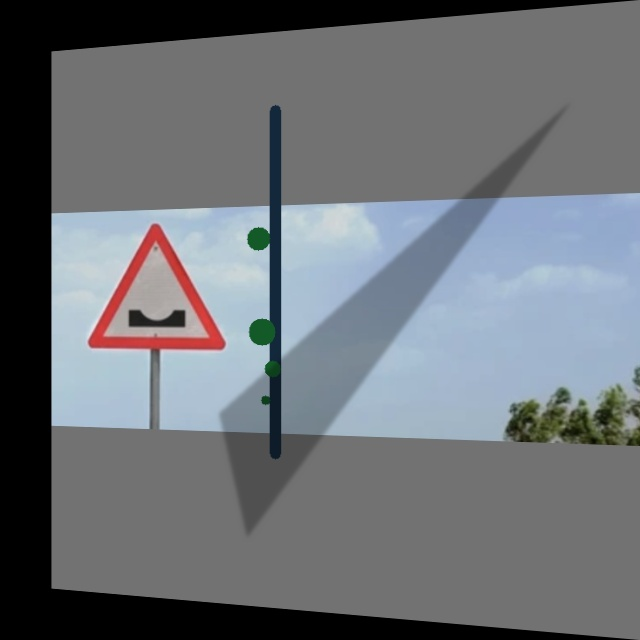Dangerous_Dip: (92, 222, 226, 350)
